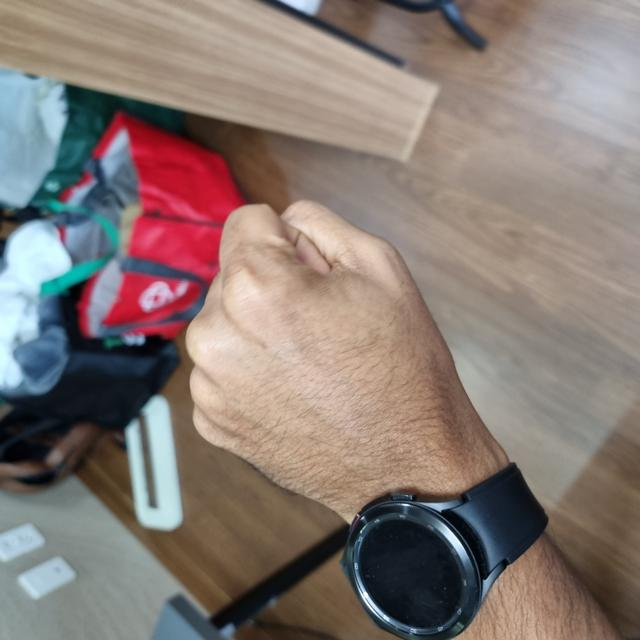Rock: (125, 186, 443, 486)
